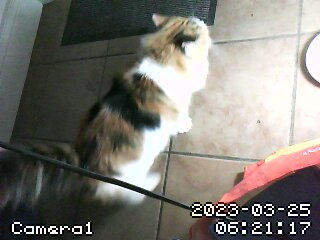clara: (39, 12, 231, 215)
